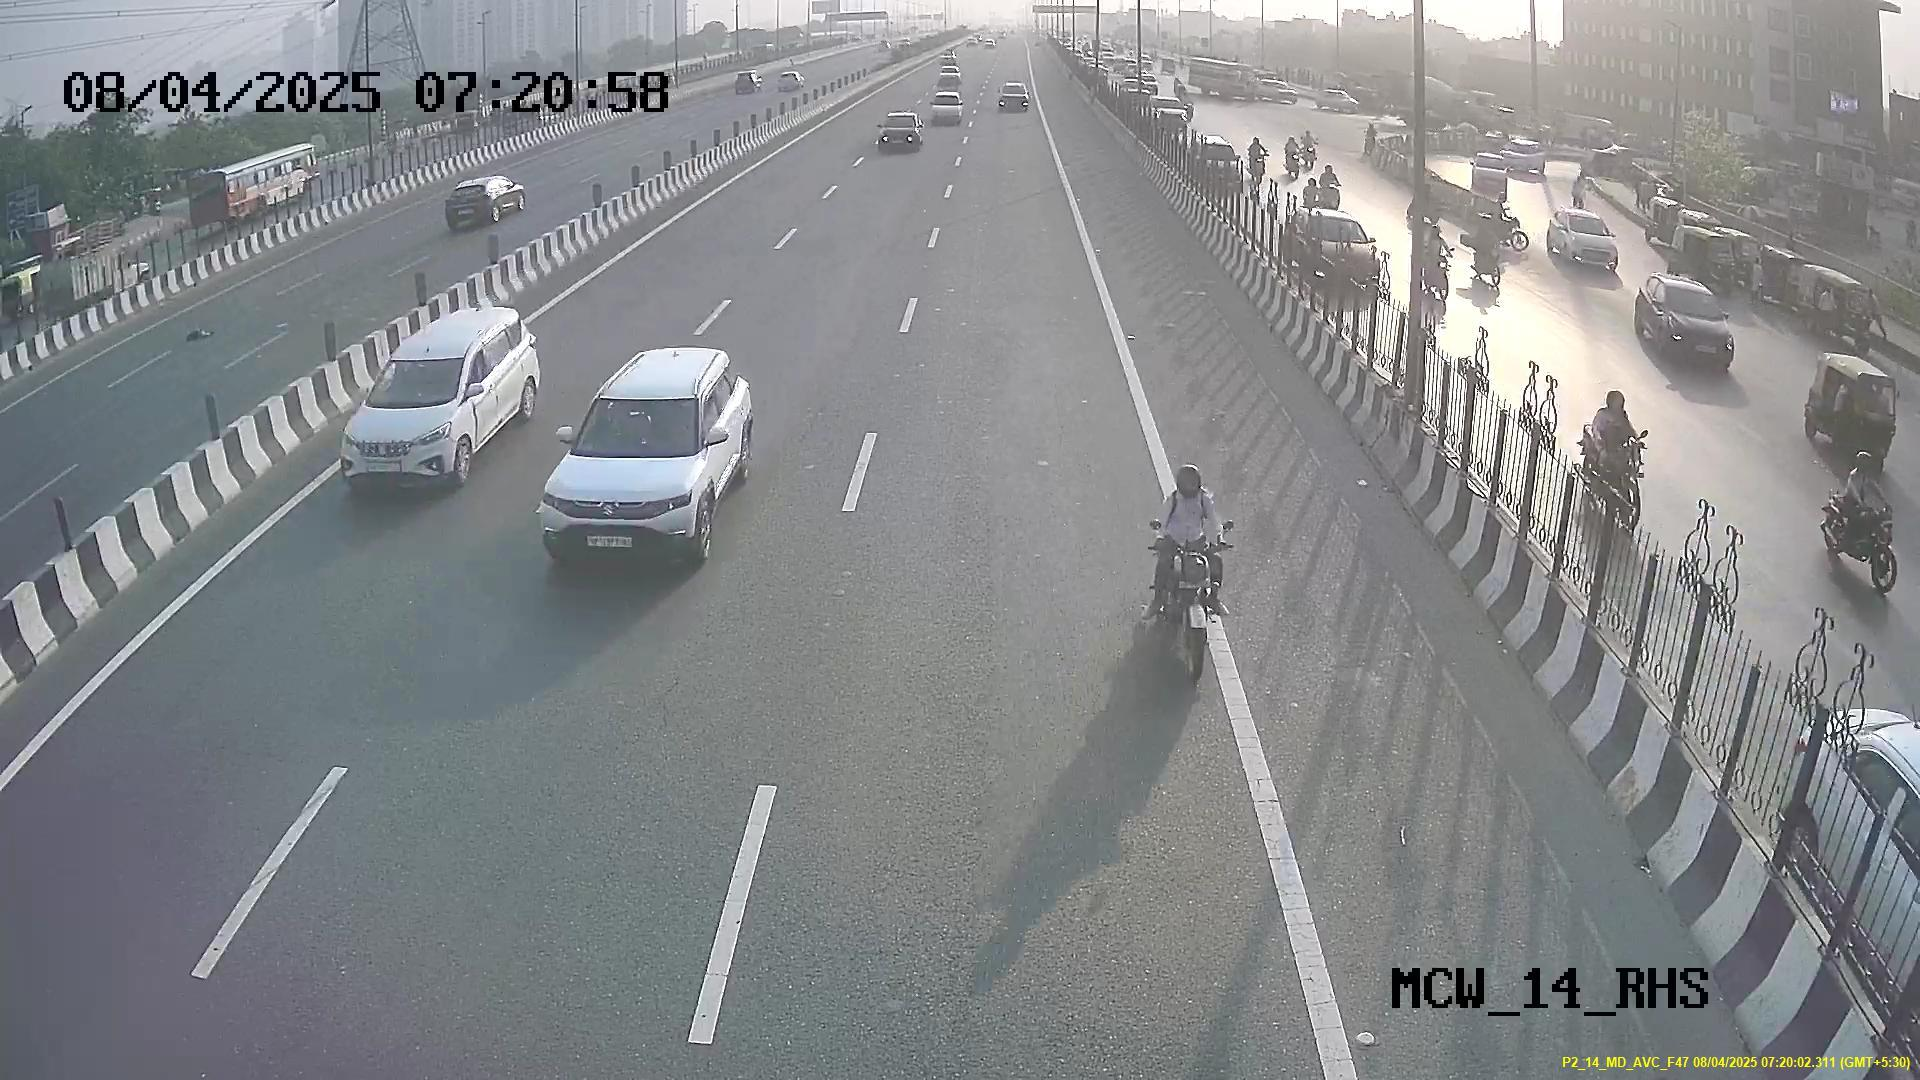bike: (1149, 454, 1237, 680)
car: (541, 376, 732, 567), (340, 330, 493, 495)
